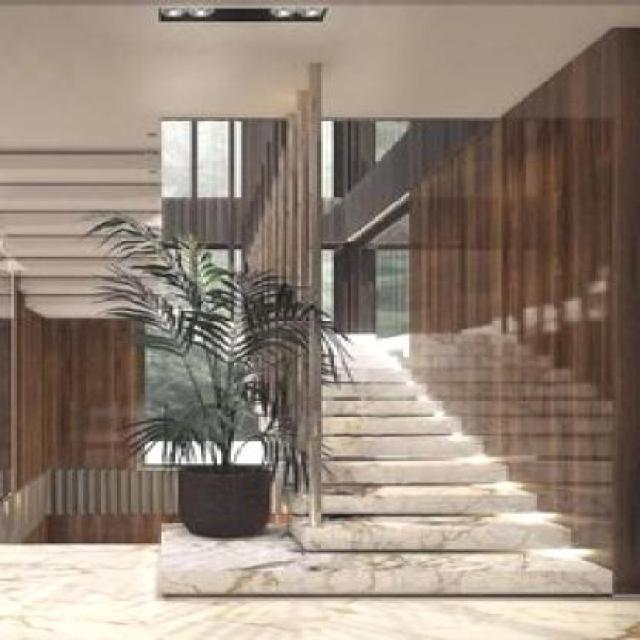stair: (242, 310, 610, 612)
